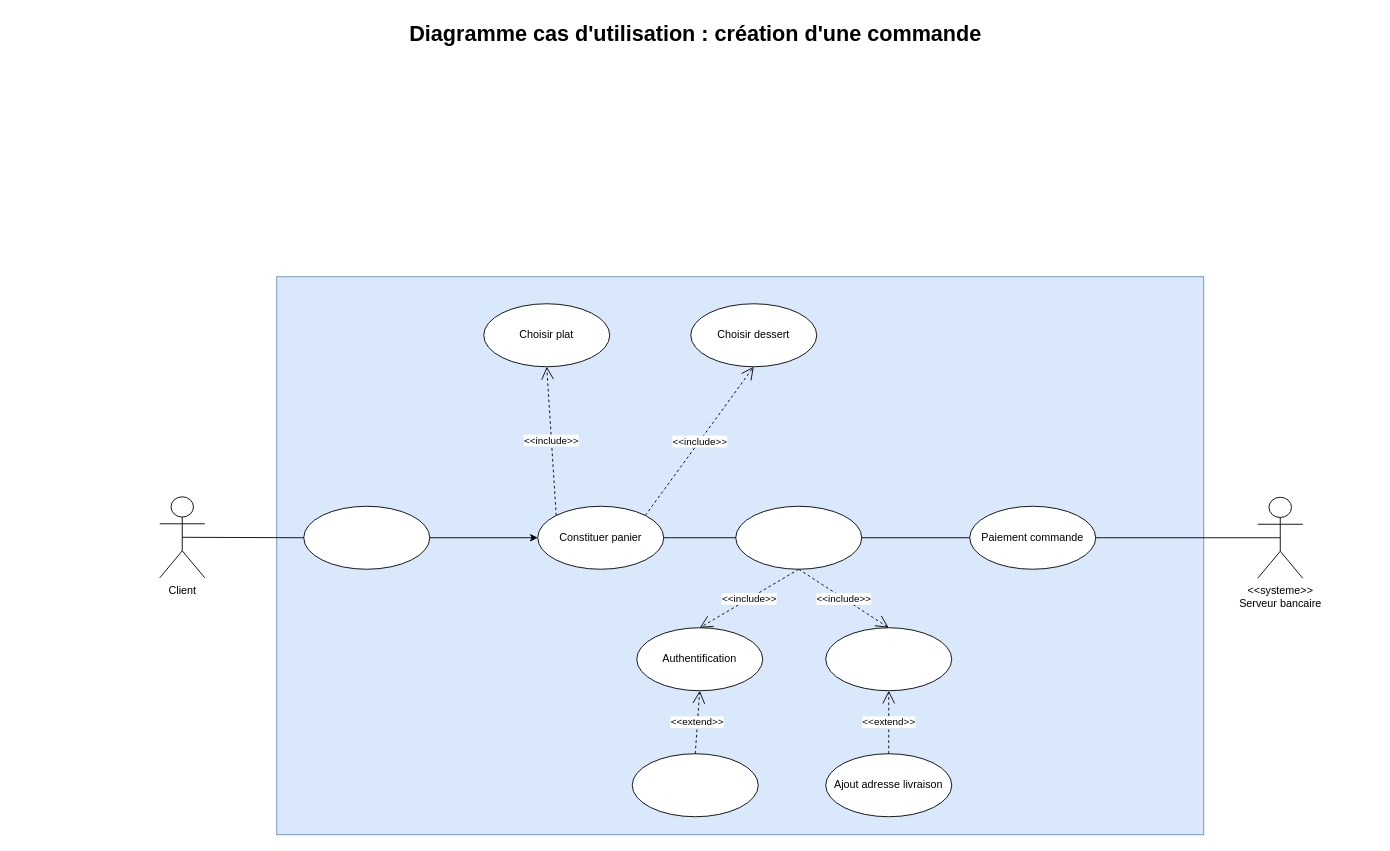
Image size: 1390x851. Some labels were removed from this diagram. Here are the shapes that lost their labels. From the top down, the box of each, then its label:
(303, 505, 430, 569): Consulter les menus
(735, 505, 862, 569): Valider commande
(825, 627, 952, 691): Sélection adresse livraison
(631, 753, 758, 817): Création compte
